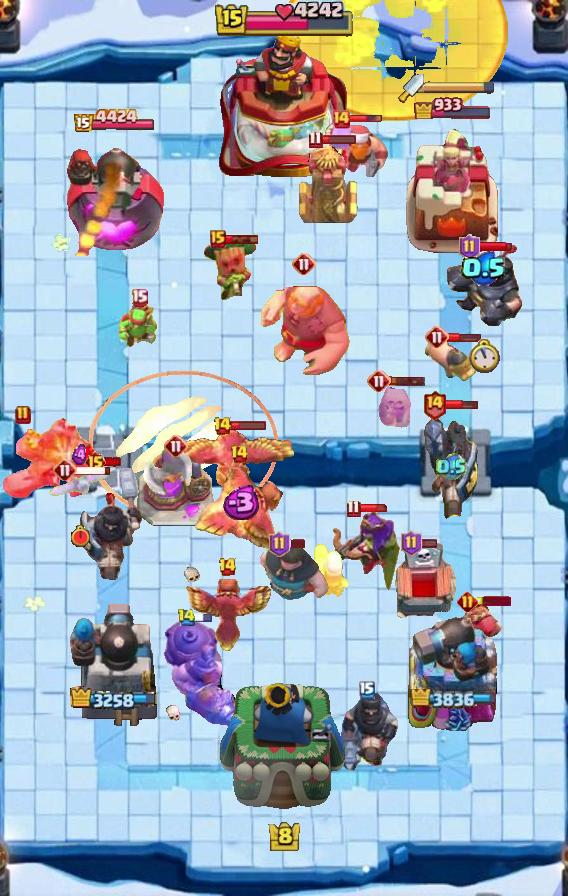balloon: (257, 275, 351, 377)
bar: (403, 124, 503, 256)
barbarian: (46, 466, 114, 498)
barbarian-hut: (324, 510, 402, 596)
bat-evolution: (377, 380, 415, 428)
bowler: (456, 601, 504, 643)
cannoneer-tower: (0, 416, 108, 500)
clock: (213, 0, 355, 40)
electro-spirit: (461, 251, 507, 285), (218, 485, 261, 519), (437, 453, 468, 481), (72, 444, 88, 466)
elixir: (469, 338, 500, 373), (69, 524, 91, 547)
elixir-golem-mid: (389, 541, 459, 627)
emote: (319, 134, 356, 146), (390, 375, 427, 387), (477, 241, 513, 253), (444, 399, 479, 411), (75, 465, 113, 476), (230, 420, 267, 431), (224, 234, 259, 245), (446, 332, 481, 343), (475, 596, 511, 606), (349, 114, 383, 124), (358, 503, 390, 513), (194, 611, 214, 623), (104, 456, 123, 468), (418, 539, 438, 550), (287, 539, 307, 550)
executioner: (425, 334, 479, 384)
giant-snowball: (118, 303, 160, 349)
goblin-barrel: (202, 238, 260, 304)
goblin-brawler: (297, 144, 359, 228)
golden-knight: (181, 578, 273, 654)
ice-wizard: (90, 371, 279, 521)
inferno-dragon: (78, 463, 144, 583), (422, 403, 480, 523), (335, 690, 399, 773)
king-tower: (218, 27, 350, 181), (219, 678, 349, 826)
king-tower-bar: (424, 80, 496, 94)
mighty-miner: (322, 120, 388, 184)
mother-witch: (169, 428, 297, 500), (191, 464, 287, 558)
pekka: (137, 446, 215, 528)
phoenix-egg: (283, 0, 509, 120)
royal-giant: (139, 449, 193, 509)
royal-guardian: (442, 243, 526, 329)
royal-hog: (253, 541, 331, 605)
selected: (69, 686, 158, 714), (72, 109, 155, 136), (413, 94, 493, 119), (410, 689, 496, 707)
text: (422, 389, 447, 420), (292, 252, 316, 276), (425, 325, 449, 349), (367, 369, 391, 393), (164, 434, 188, 458), (53, 458, 77, 482), (84, 450, 107, 474), (460, 234, 481, 260), (401, 530, 422, 556), (270, 531, 291, 557), (458, 591, 479, 613), (331, 109, 351, 129), (212, 416, 232, 436), (230, 444, 249, 464), (218, 557, 237, 577), (131, 288, 149, 307), (177, 609, 196, 627), (15, 405, 31, 425), (210, 230, 226, 248), (359, 681, 375, 699), (346, 498, 361, 517), (309, 131, 323, 149)
tombstone: (310, 541, 352, 599)
tower-bar: (63, 138, 164, 256), (69, 599, 159, 731), (407, 611, 499, 731)
wizard: (161, 615, 243, 729)
